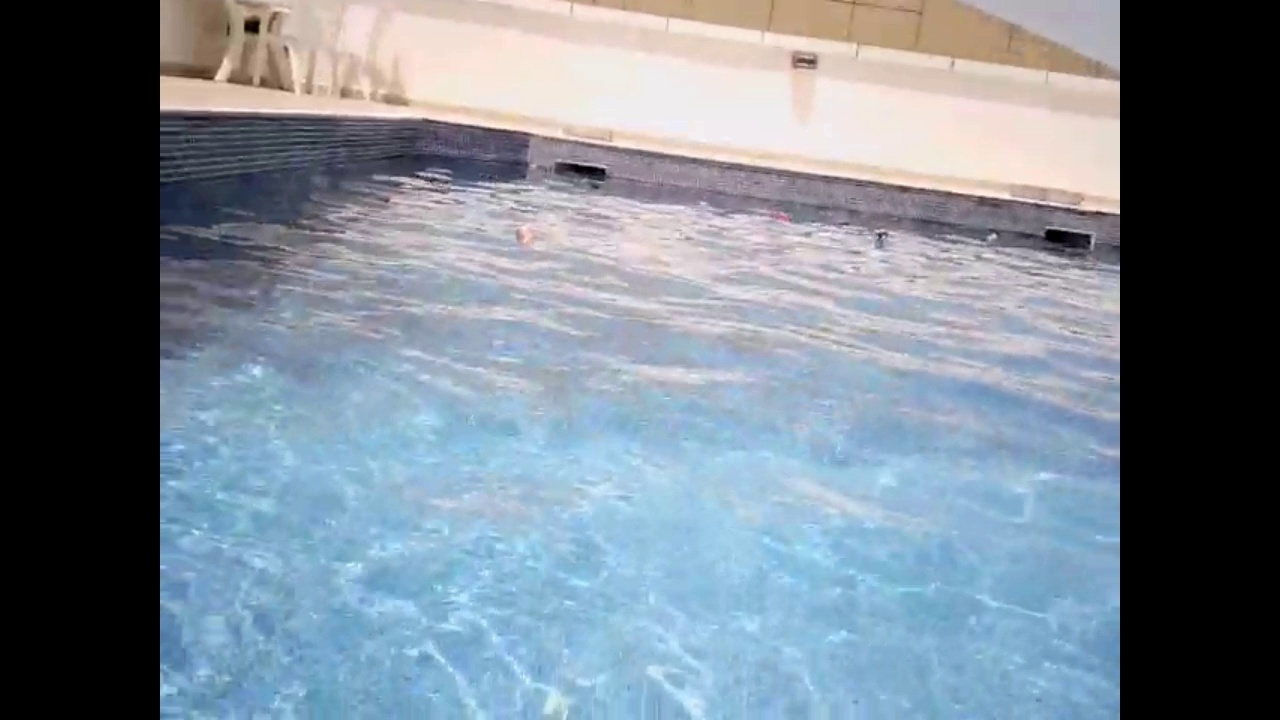debris: (511, 222, 538, 249), (980, 227, 1004, 248), (770, 207, 793, 226), (868, 223, 889, 242), (694, 196, 710, 207)
